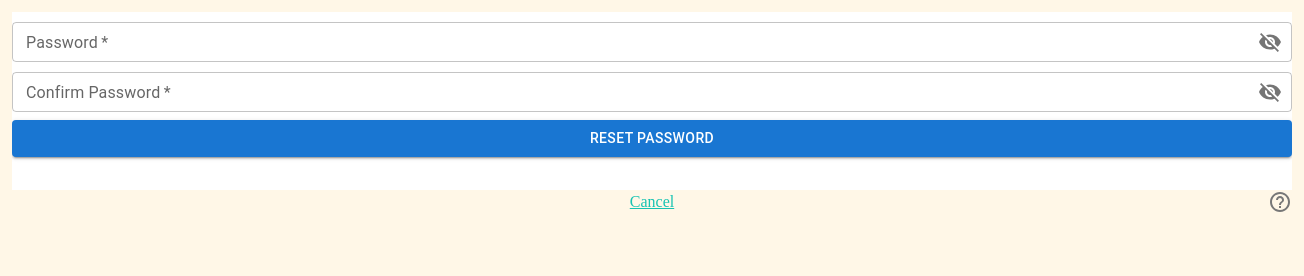
it: PasswordResetForm › shows invalid password and passwords do not match
In the password field labelled "Confirm Password *": x=627, y=92 [12,72,1242,112], type "fds"
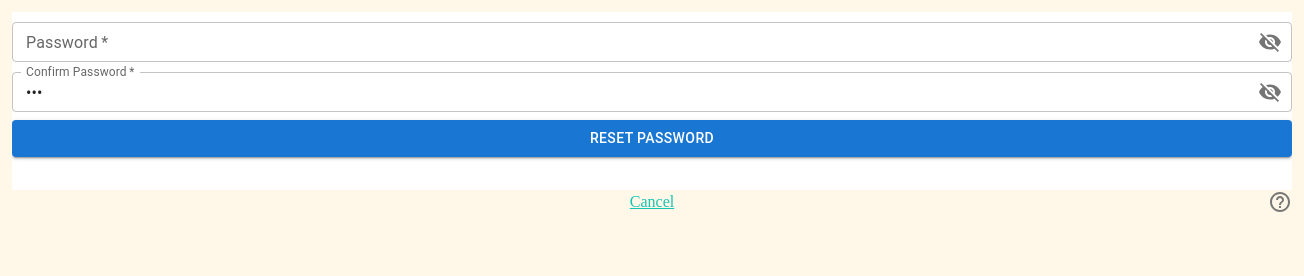
In the password field labelled "Password *": x=627, y=42 [12,22,1242,62], type "ert"
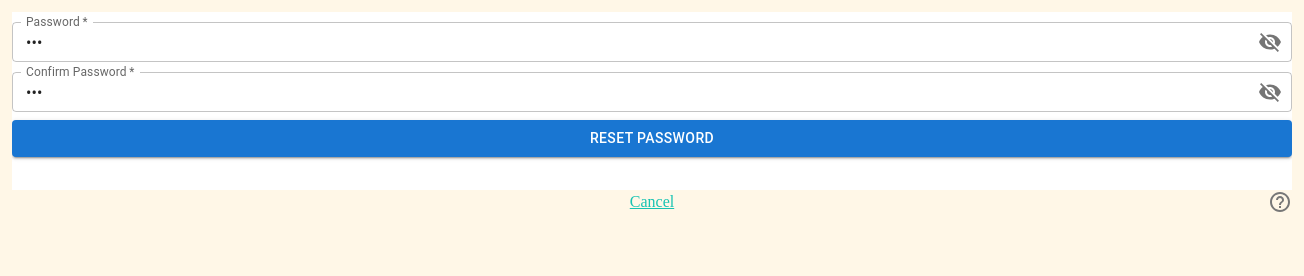
Click the button "Reset Password": x=652, y=138 [12,120,1292,156]
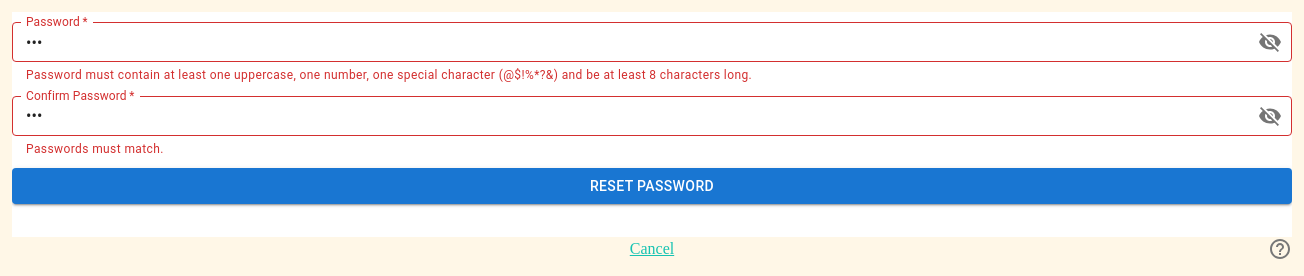
Now the text "Password must contain at least one uppercase," is shown, box [26,68,752,82]
Now the text "Passwords must match." is shown, box [26,142,164,156]
